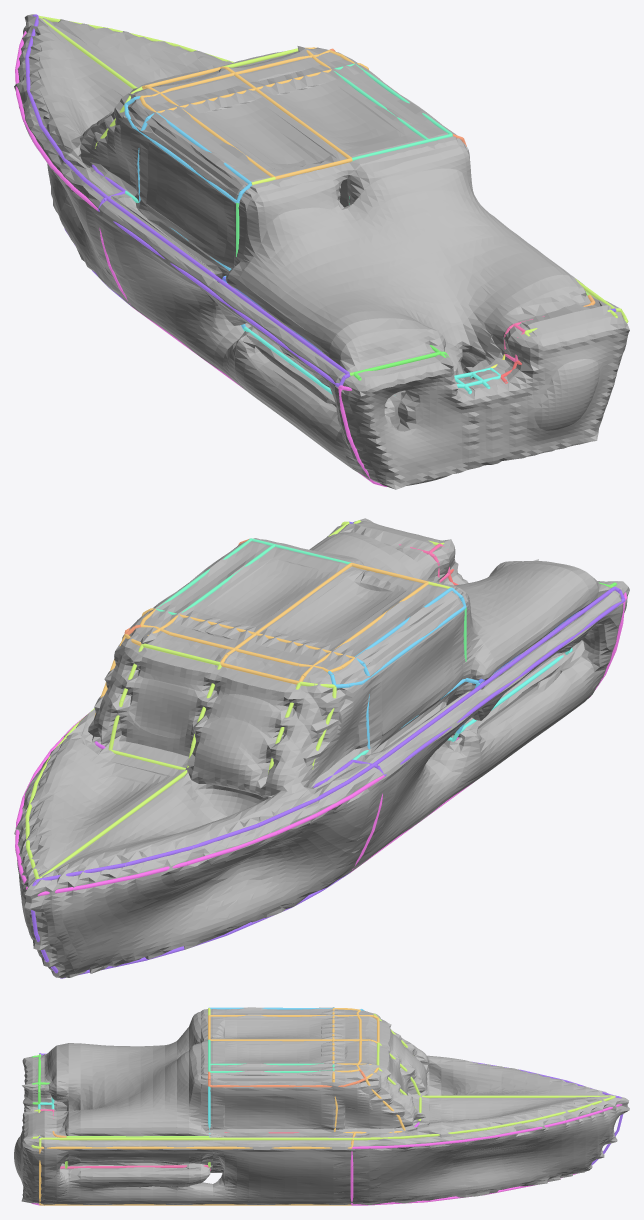
File: flowrep_boat.gltf
3 views of the same model, one above another, from view 1: azimuth 30°, elevation 25°; view 2: azimuth 150°, elevation 25°; view 3: azimuth 270°, elevation 25° (orthographic). The views are drawn at different scales.
Size of the model in its own units: 0.3341 by 0.2518 by 0.9505.
